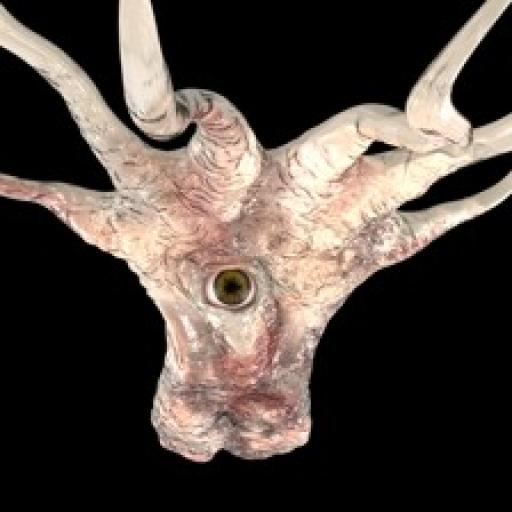dalek: (4, 0, 512, 471)
